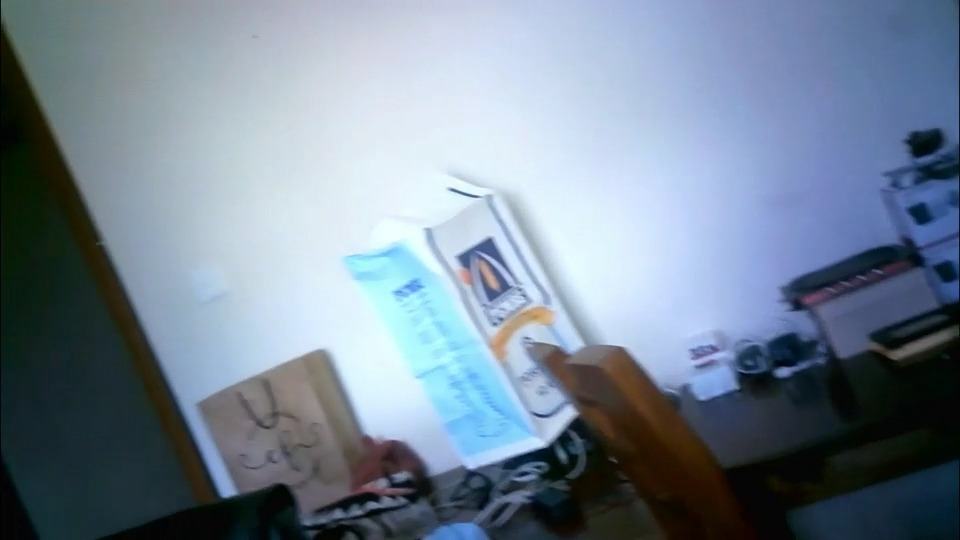wheat_flour_blue_label: (341, 174, 591, 468)
